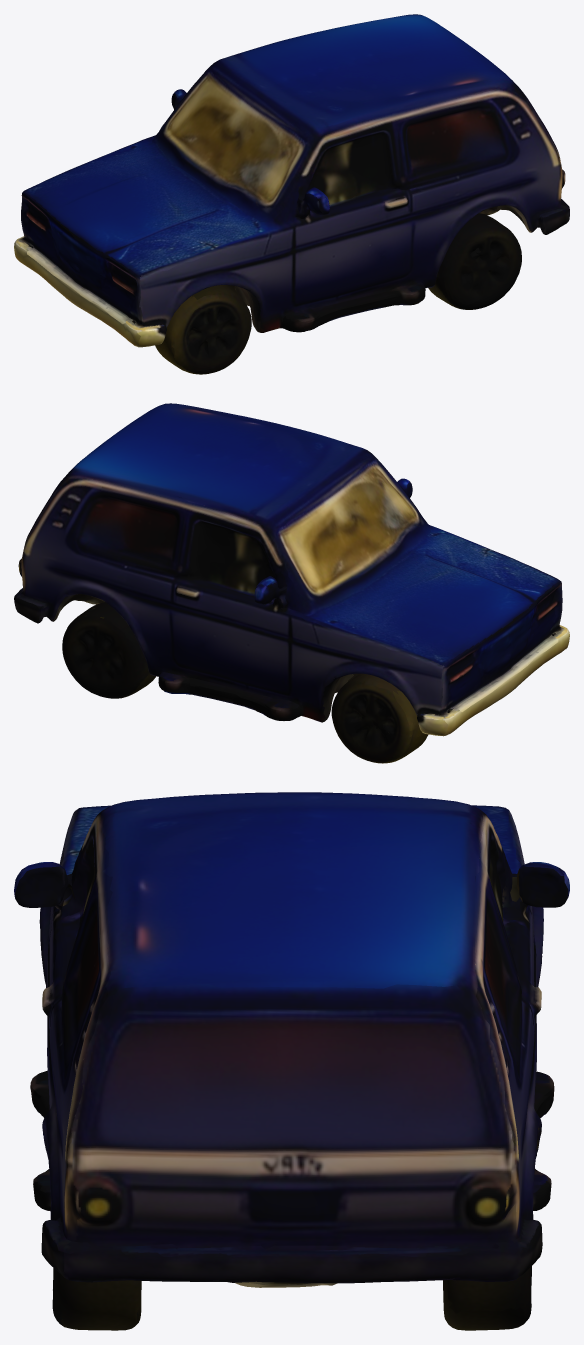
File: Niva_hunyuan3D.glb
3 views of the same model, one above another, from view 1: azimuth 30°, elevation 25°; view 2: azimuth 150°, elevation 25°; view 3: azimuth 270°, elevation 25° (orthographic). The views are drawn at different scales.
Parts seen in each view (by area): view 1: tmp6npbyb6b.ply; view 2: tmp6npbyb6b.ply; view 3: tmp6npbyb6b.ply.
Part boxes in pixels (<box>): tmp6npbyb6b.ply: <box>14,14,569,374</box>; tmp6npbyb6b.ply: <box>14,403,569,763</box>; tmp6npbyb6b.ply: <box>14,792,569,1330</box>.
Bounding box in the file's own units: 1.99 × 0.9231 × 1.17.
Materials: 1 (1 with a texture image).
